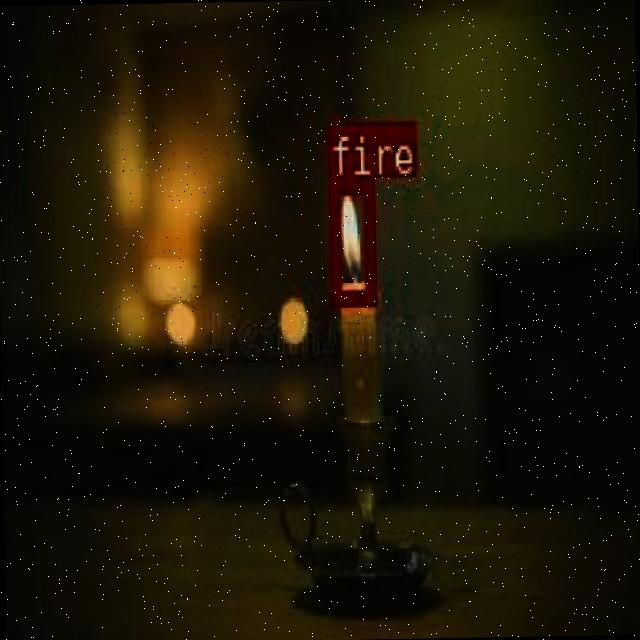fire: (326, 174, 373, 303)
